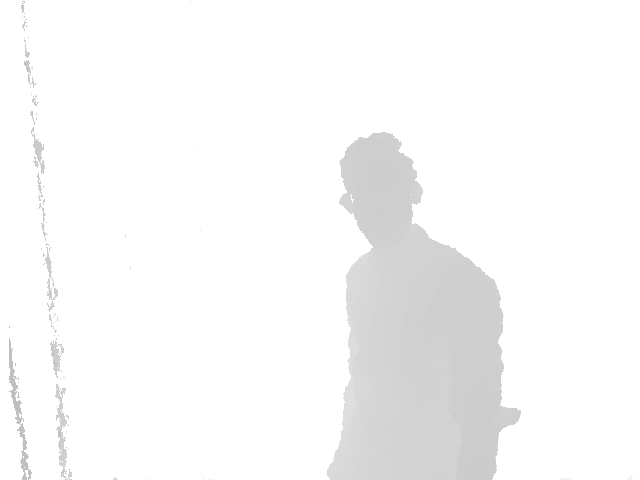head: (338, 132, 424, 245)
person: (324, 132, 524, 480)
